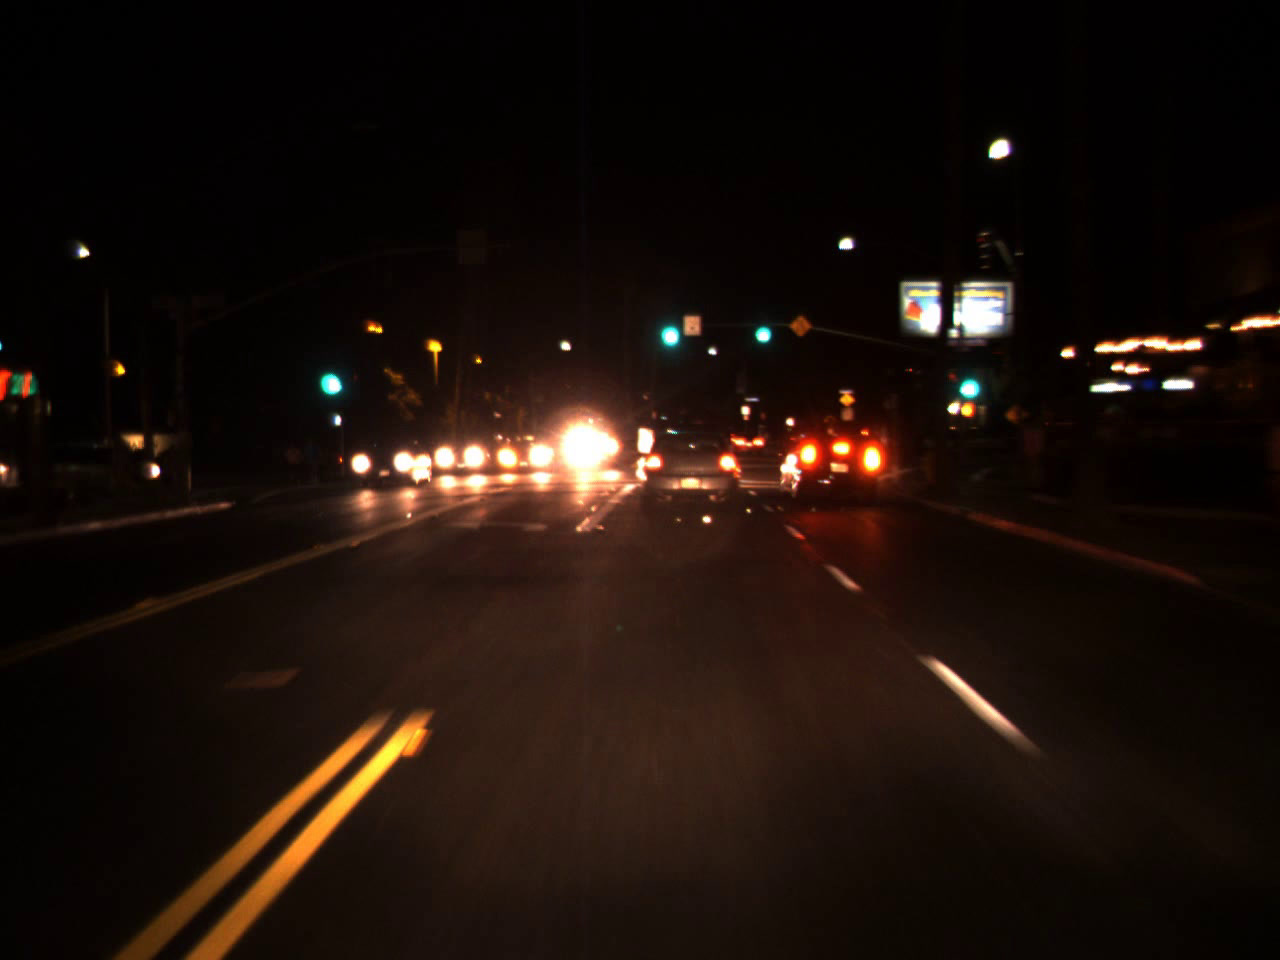go: (950, 355, 984, 406), (653, 298, 683, 355), (314, 344, 342, 404), (749, 313, 774, 343)
